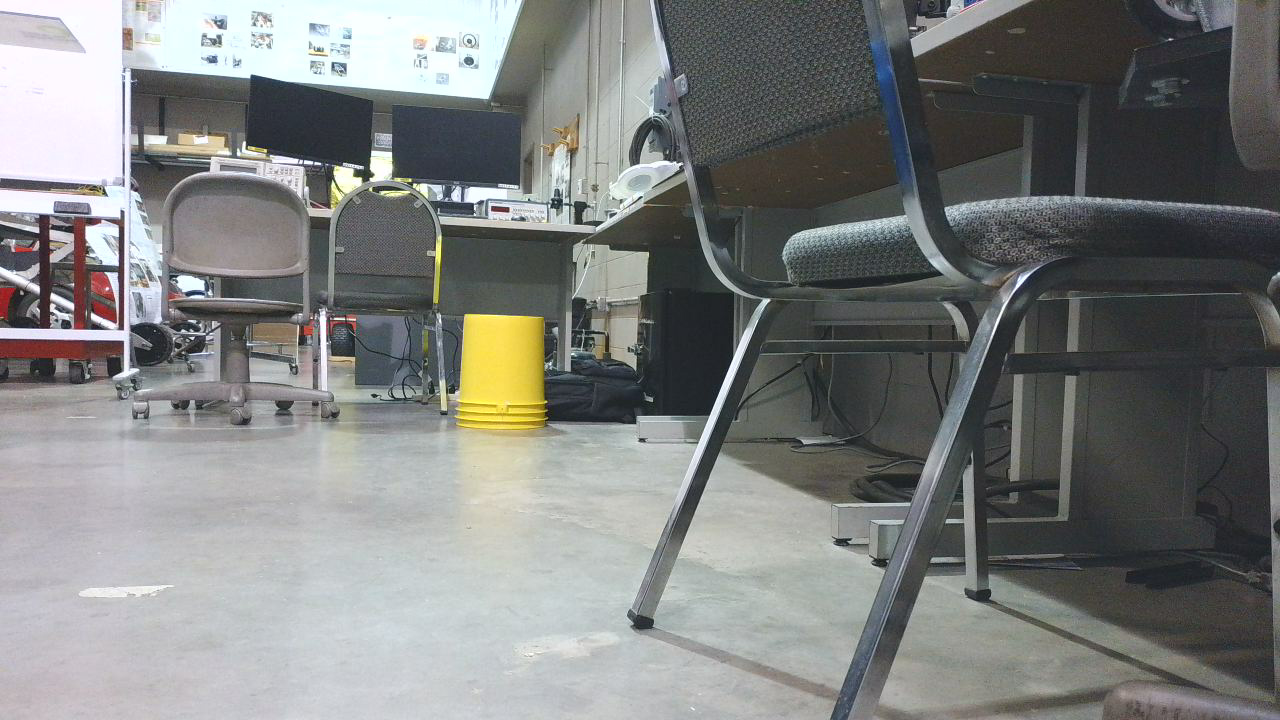yellow_bucket: (460, 318, 552, 435)
